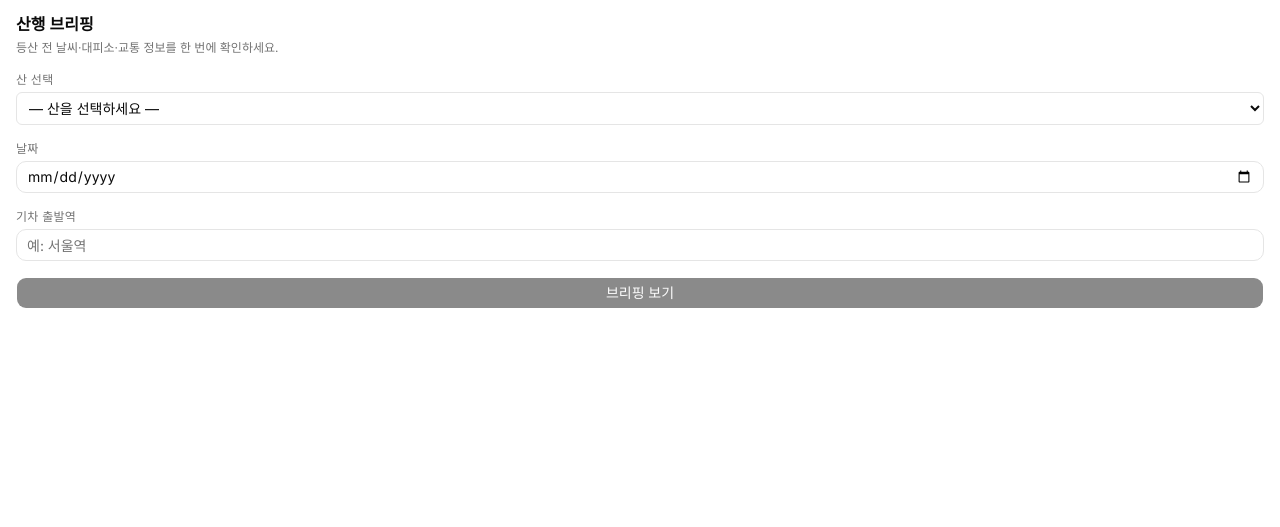
Test case: SearchForm › 산 선택 → 추천 등산로 › 등산로를 선택하면 출발지·도착지가 자동 채워진다
Select "지리산" in the dropdown with test id "mountain-select": (640, 108) [16,92,1264,125]
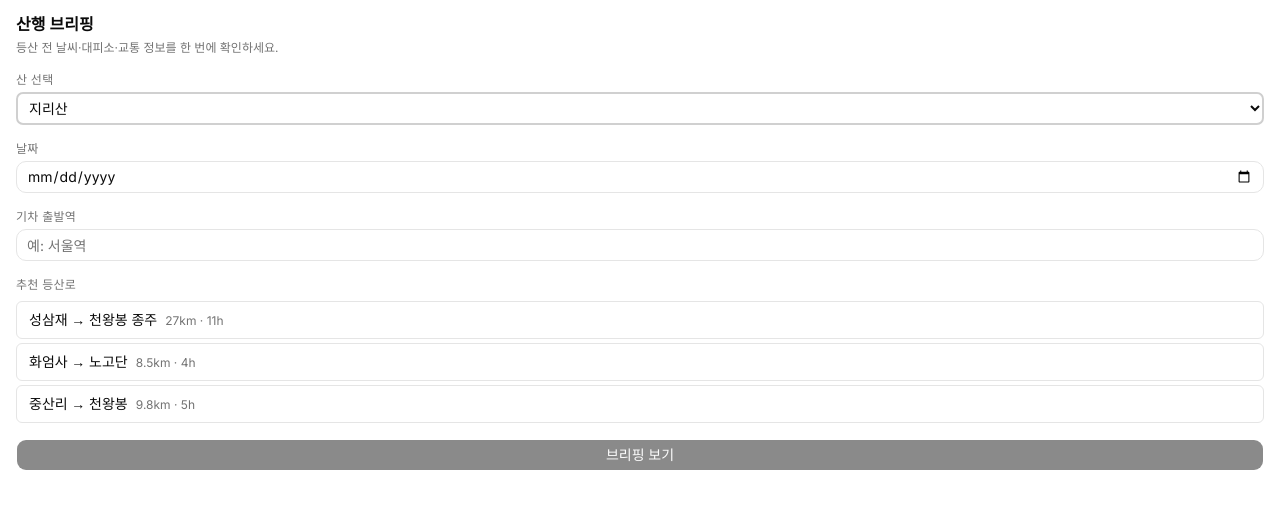
Click the text "성삼재 → 천왕봉 종주": (93, 320) [29,311,157,328]
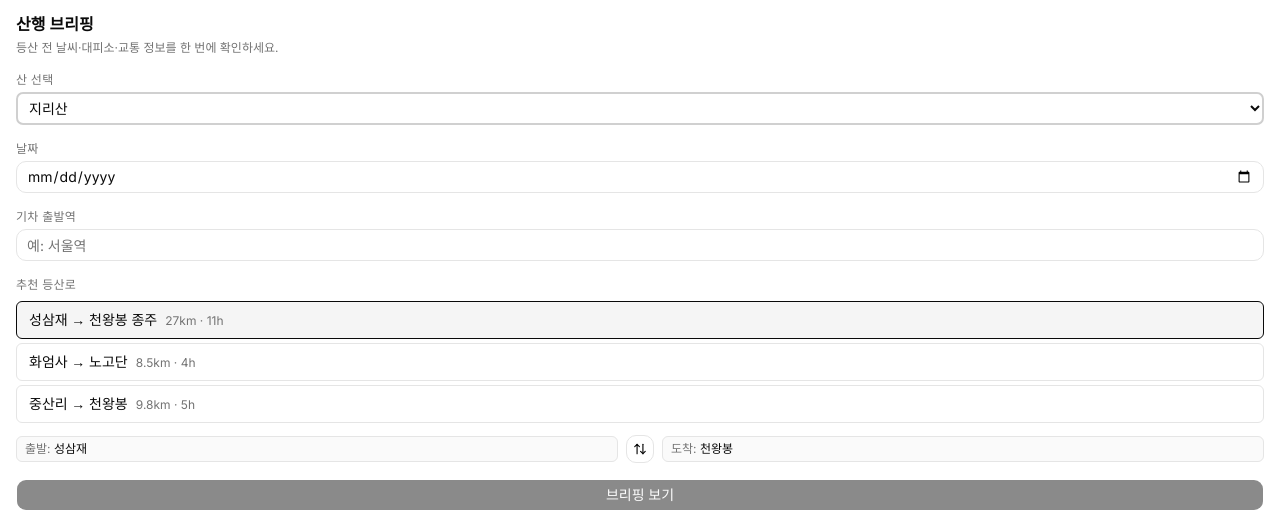
Now the text with test id "start-point" reads "성삼재", box [54,441,87,456]
Now the text with test id "end-point" reads "천왕봉", box [700,441,733,456]
